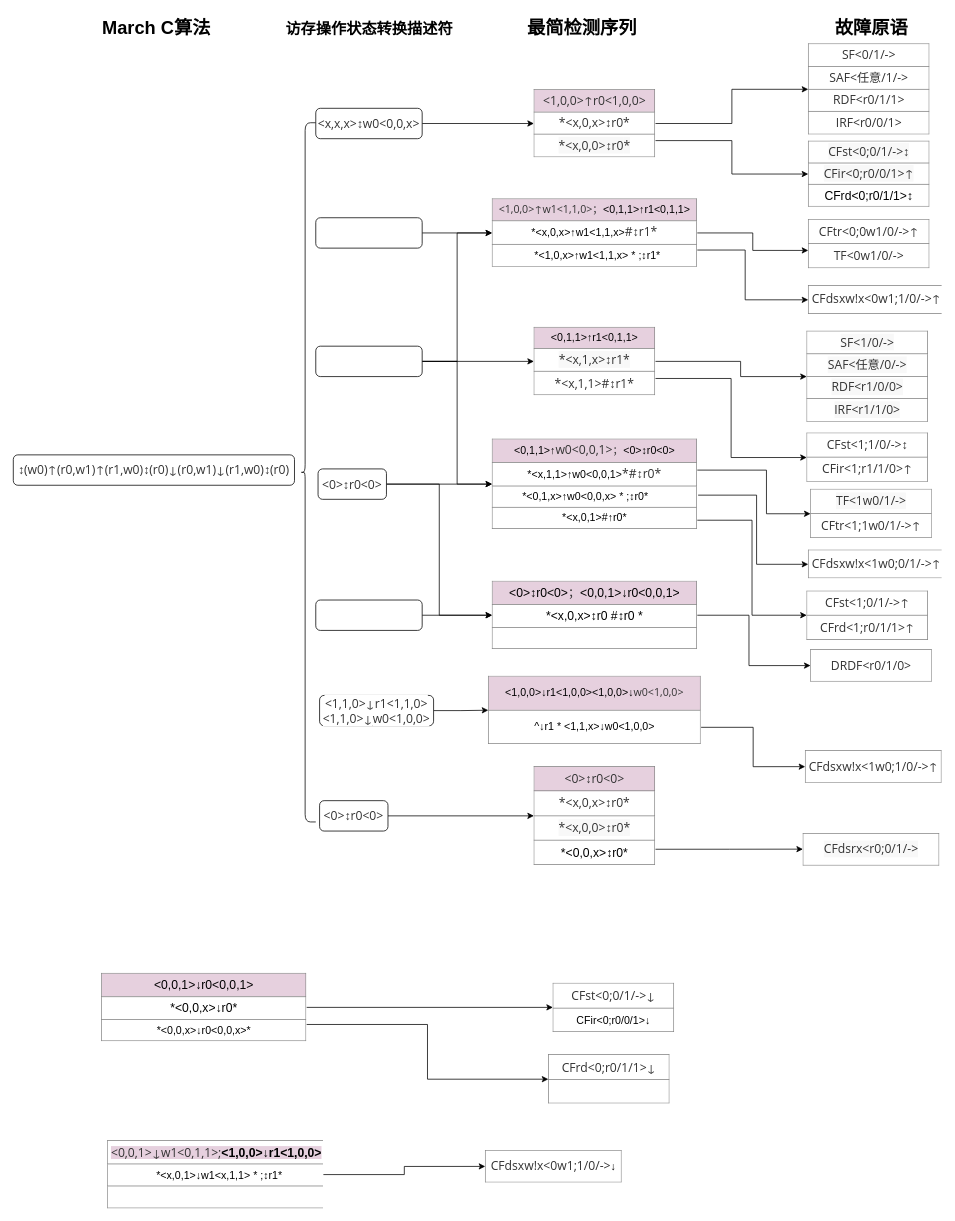
Image size: 955x1221. Some labels were removed from this diagram. The box of each missing label's shape, as (x1, y1, x2, y2) in pixels:
<0,0,1>↓r0<0,0,1> <0,0,1>↓ w1<0,1,1>: (315, 599, 422, 630)
<0,1,1>↑r1<0,1,1> <0,1,1>↑ w0<0,0,1>: (315, 345, 422, 377)
<1,0,0>↑r0<1,0,0> <1,0,0>↑ w1<1,1,0>: (315, 217, 422, 248)
